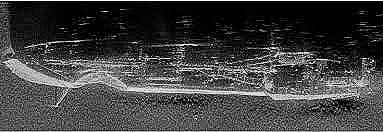ship: (4, 39, 380, 109)
